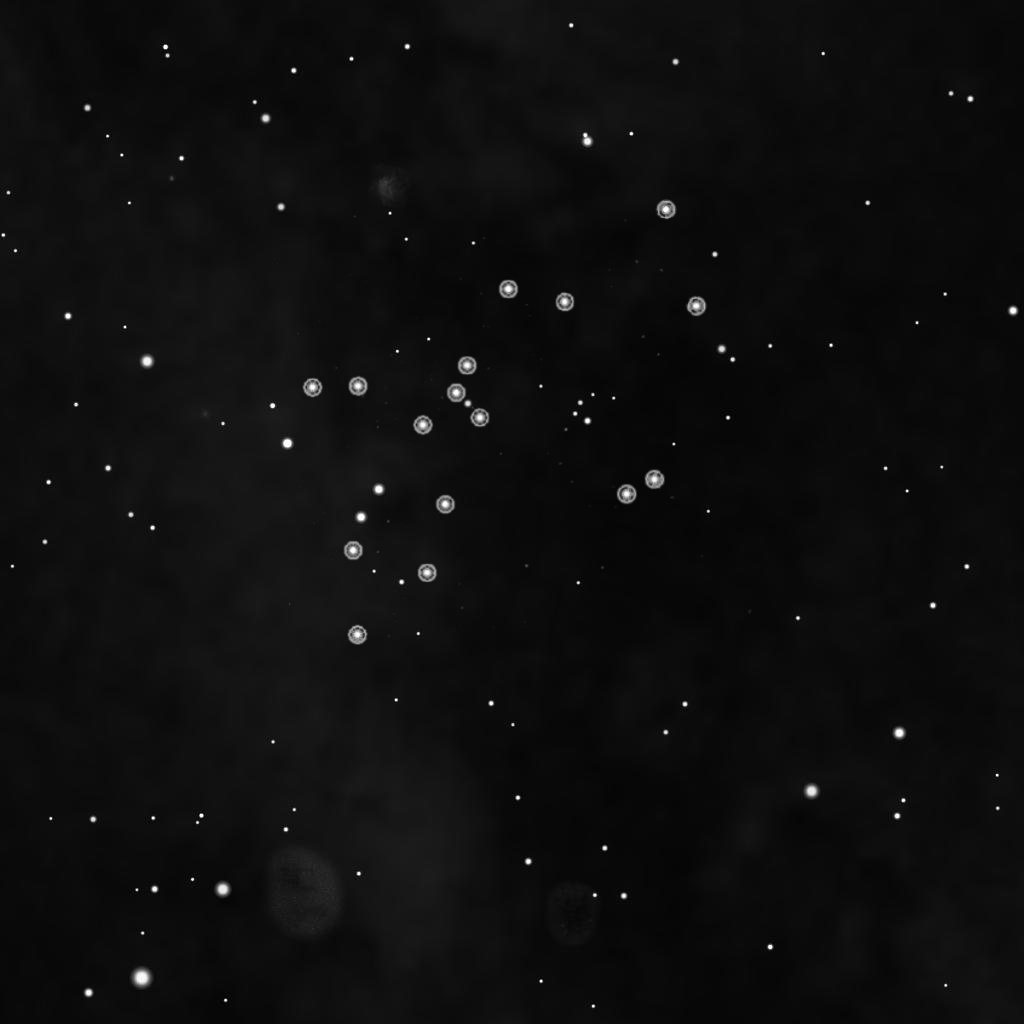canis_major: (408, 276, 580, 437)
